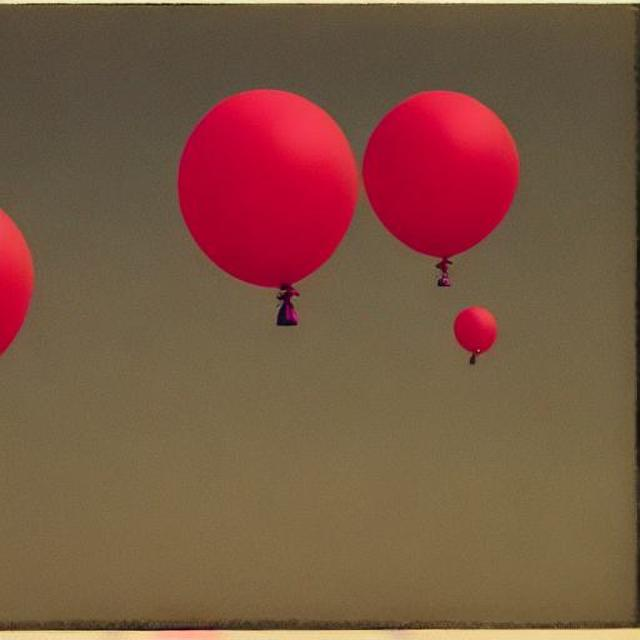balloon: (163, 74, 524, 314), (446, 302, 500, 361)
